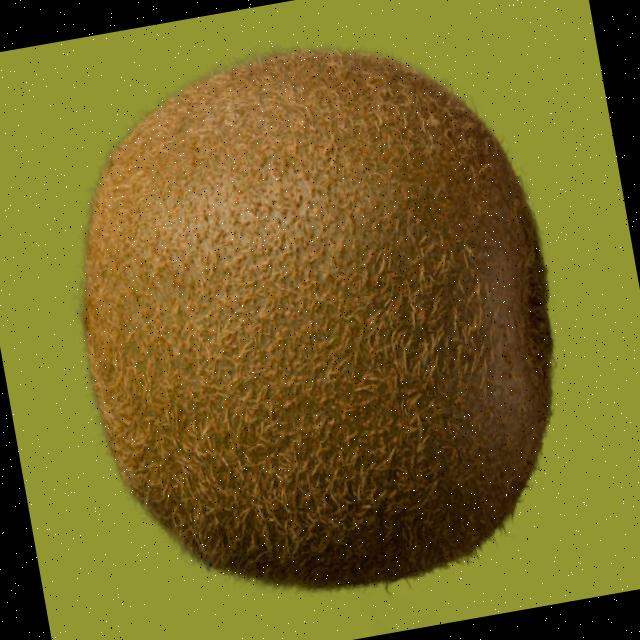kiwi: (85, 52, 553, 588)
